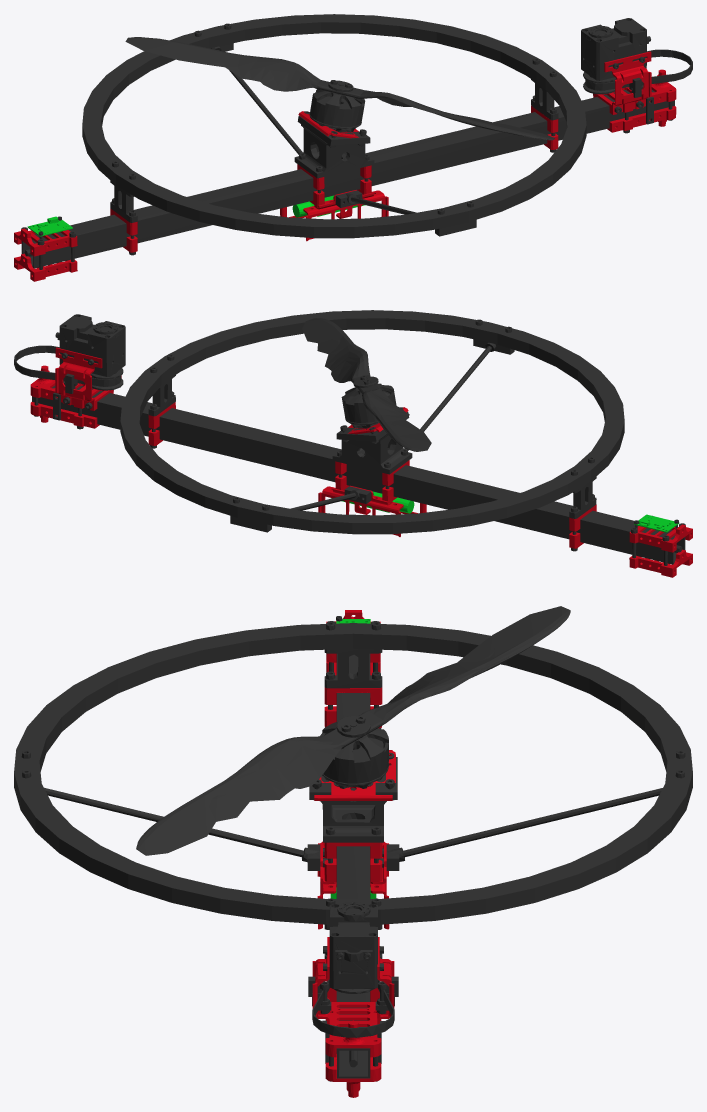
The model's file is tilt_10deg_link1.dae.
3 renders of one model, top to bottom at view 1: azimuth 30°, elevation 25°; view 2: azimuth 150°, elevation 25°; view 3: azimuth 270°, elevation 25°, orthographic. The views are drawn at different scales.
Visible parts, largest first — view 1: tilt_10deg_link1_black_part, tilt_link1_red_part, link1_green_part; view 2: tilt_10deg_link1_black_part, tilt_link1_red_part, link1_green_part; view 3: tilt_10deg_link1_black_part, tilt_link1_red_part.
Boxes of the visible parts, x1,y1,x2,y2 form: tilt_10deg_link1_black_part: [21, 14, 692, 269]; tilt_link1_red_part: [14, 51, 676, 281]; link1_green_part: [27, 195, 375, 236]; tilt_10deg_link1_black_part: [14, 310, 685, 565]; tilt_link1_red_part: [30, 347, 692, 577]; link1_green_part: [331, 491, 679, 532]; tilt_10deg_link1_black_part: [14, 606, 692, 1081]; tilt_link1_red_part: [312, 610, 395, 1097].
Size of the model in its own units: 0.6083 by 0.3997 by 0.1362.
